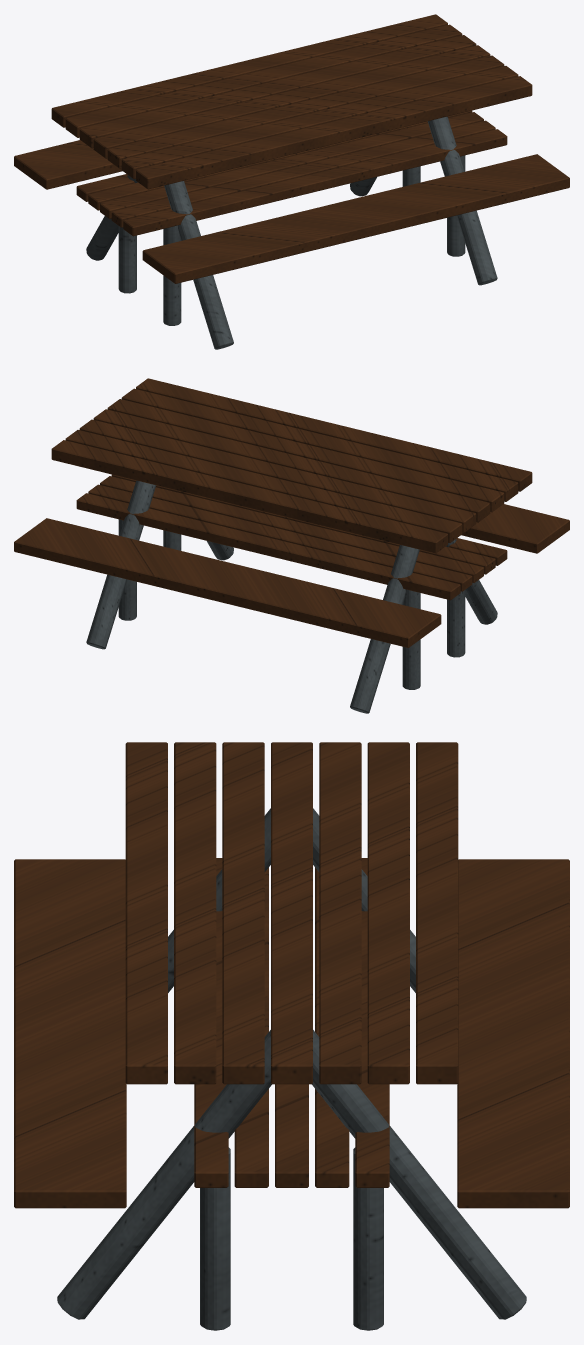
Rendered from PROP-61744FEF0A60_lod1.glb.
The picture shows the model from 3 angles, top to bottom: view 1: azimuth 30°, elevation 25°; view 2: azimuth 150°, elevation 25°; view 3: azimuth 270°, elevation 25°; orthographic projection. The views are drawn at different scales.
Visible parts, largest first — view 1: table_planks.001, picnic_seat.001, seat_slats.005, A_frame.001, bench_legs.005; view 2: table_planks.001, picnic_seat.001, seat_slats.005, A_frame.001, bench_legs.005; view 3: table_planks.001, picnic_seat.001, A_frame.001, seat_slats.005, bench_legs.005.
Boxes of the visible parts, x1,y1,x2,y2 form: table_planks.001: (51, 14, 532, 189); picnic_seat.001: (14, 140, 569, 283); seat_slats.005: (76, 110, 507, 236); A_frame.001: (86, 116, 497, 349); bench_legs.005: (118, 155, 465, 325); table_planks.001: (51, 378, 532, 553); picnic_seat.001: (14, 504, 569, 647); seat_slats.005: (76, 474, 507, 600); A_frame.001: (86, 480, 497, 713); bench_legs.005: (118, 519, 465, 689); table_planks.001: (125, 742, 458, 1084); picnic_seat.001: (14, 859, 569, 1208); A_frame.001: (57, 808, 526, 1319); seat_slats.005: (194, 858, 389, 1187); bench_legs.005: (200, 1147, 383, 1330).
Size of the model in its own units: 1.95 by 0.8302 by 1.38.
2 materials, 2 textured.
